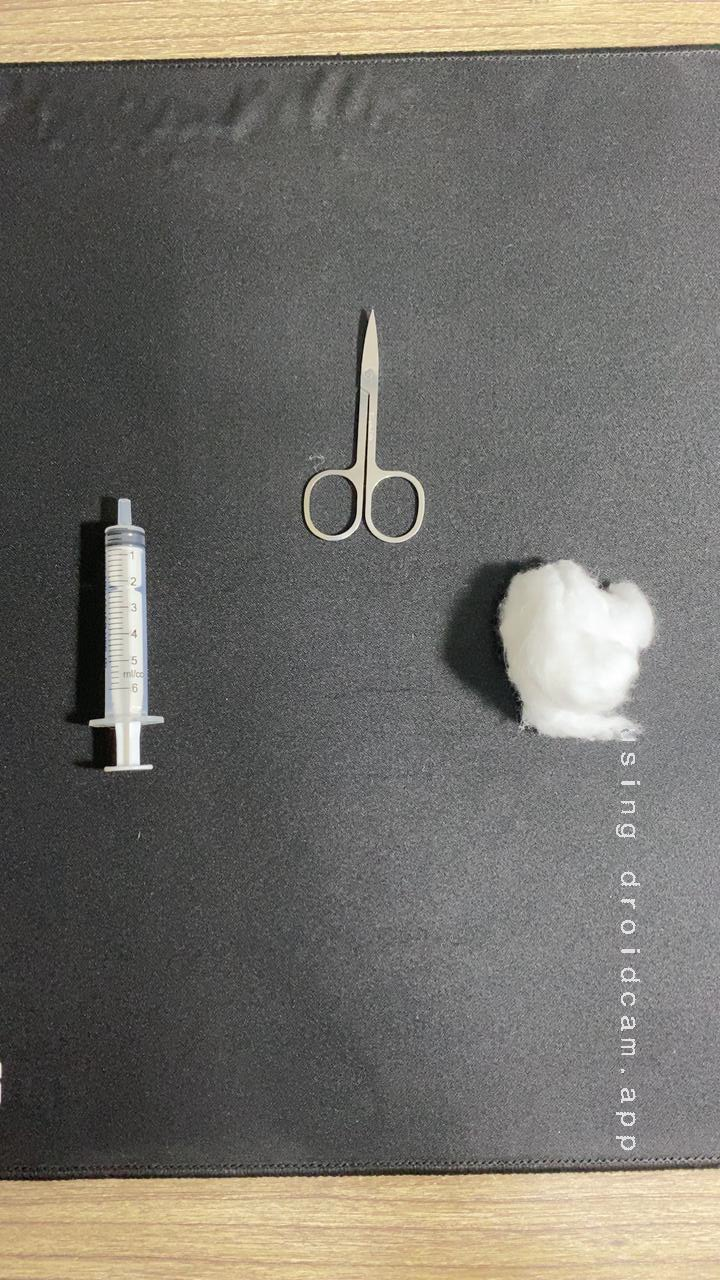cotton: (462, 532, 689, 753)
scissor: (279, 294, 443, 557)
syringe: (58, 490, 190, 786)
